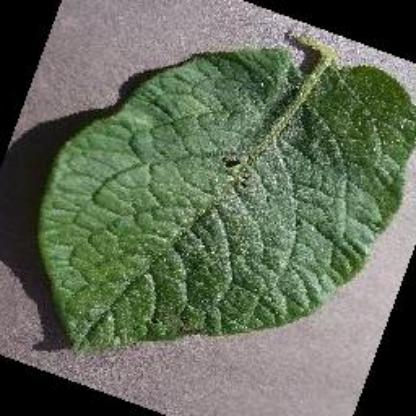Healthy-plant: (27, 34, 415, 360)
